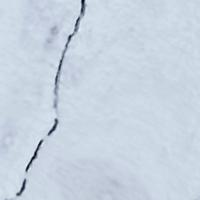crack: (3, 0, 101, 199)
